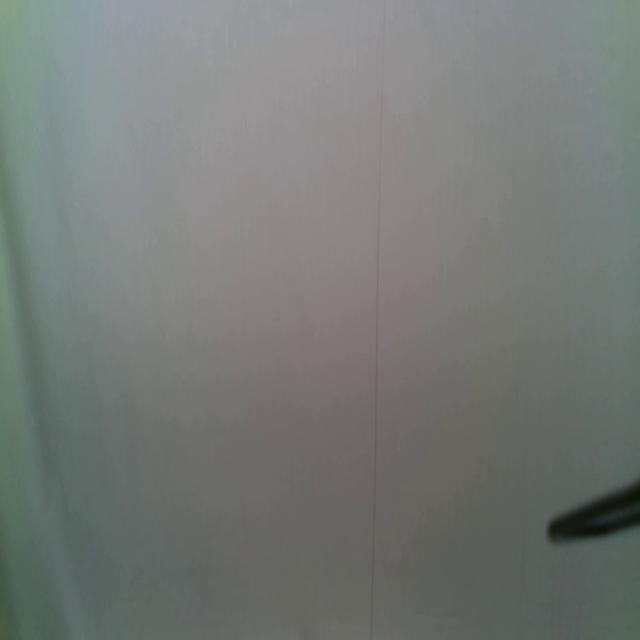crease: (367, 1, 388, 640)
